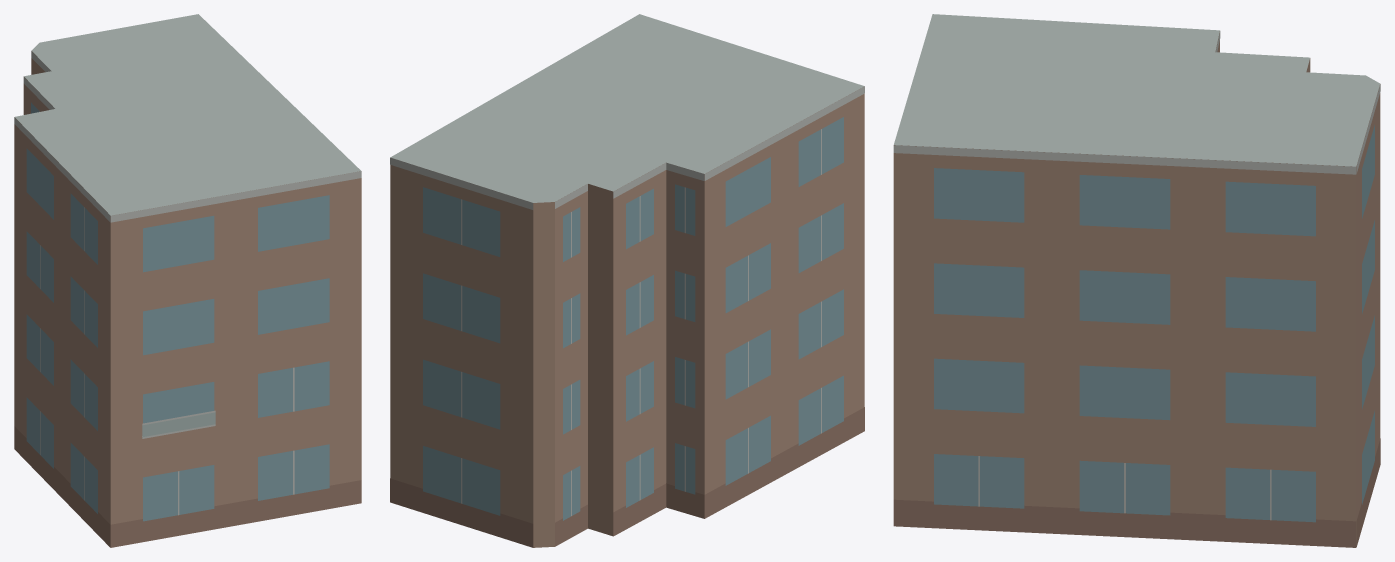
File: survey-upis-32941794.glb
The picture shows the model from 3 angles, left to right: view 1: azimuth 30°, elevation 25°; view 2: azimuth 150°, elevation 25°; view 3: azimuth 270°, elevation 25°; orthographic projection. The views are drawn at different scales.
Visible parts, largest first — view 1: survey-upis-32941794.tmp; view 2: survey-upis-32941794.tmp; view 3: survey-upis-32941794.tmp.
Part boxes in pixels (<box>): survey-upis-32941794.tmp: <box>14,14,361,547</box>; survey-upis-32941794.tmp: <box>390,14,864,547</box>; survey-upis-32941794.tmp: <box>893,14,1380,547</box>.
Size of the model in its own units: 9.97 by 11.6 by 13.43.
